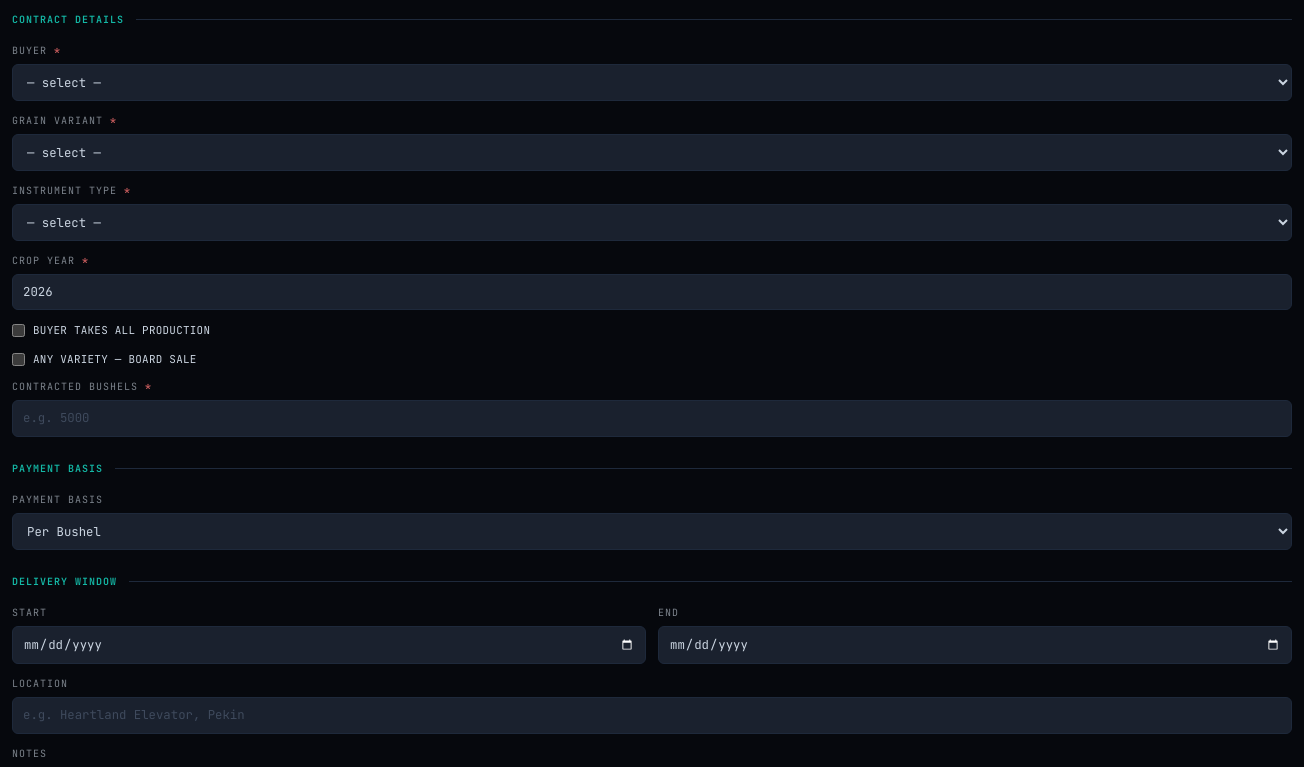
ContractForm › shows futuresPrice field when instrument is FUTURES_FIXED
Select "HTA (Futures Fixed)" in the dropdown labelled "Instrument Type *" at point(652, 222), box [12, 204, 1292, 241]
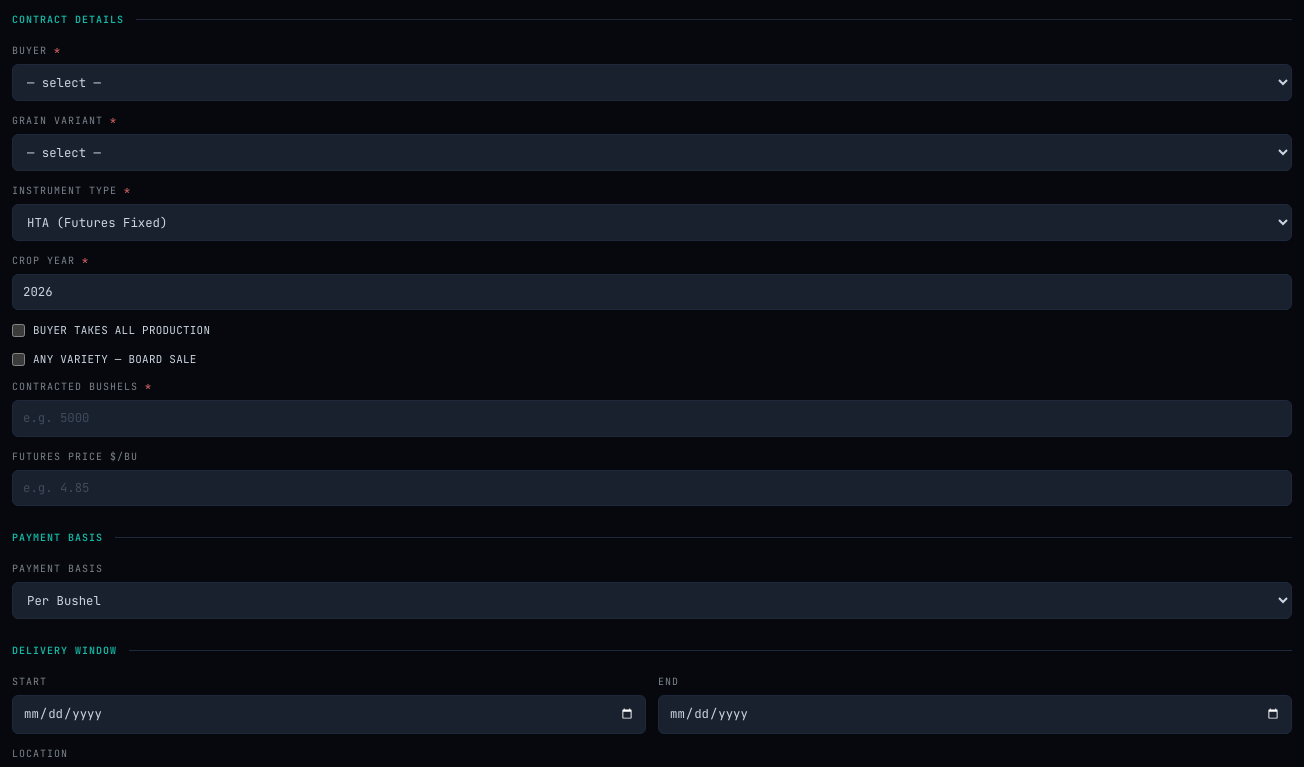
Now the number field labelled "Futures Price $/bu" is shown, box [12, 470, 1292, 506]
